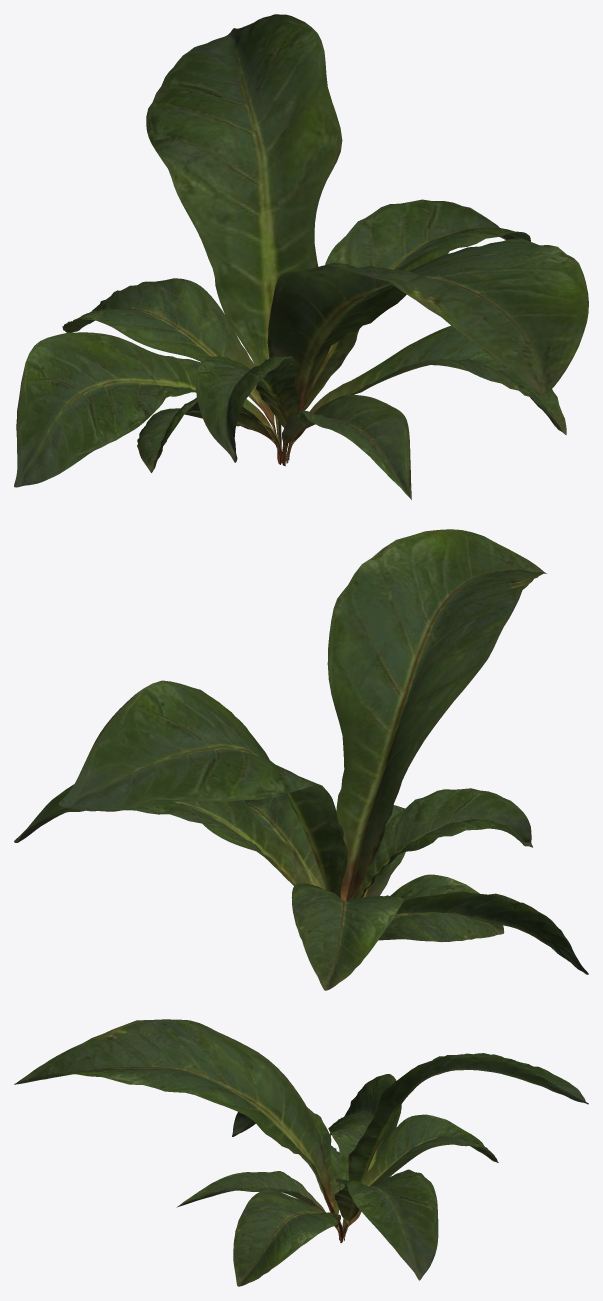
File: anthurium_botany_01_b.gltf
3 views of the same model, one above another, from view 1: azimuth 30°, elevation 25°; view 2: azimuth 150°, elevation 25°; view 3: azimuth 270°, elevation 25° (orthographic). The views are drawn at different scales.
Parts seen in each view (by area): view 1: anthurium_botany_01_a; view 2: anthurium_botany_01_a; view 3: anthurium_botany_01_a.
Part boxes in pixels (left/top/right/bottom): anthurium_botany_01_a: left=14, top=14, right=588, bottom=499; anthurium_botany_01_a: left=14, top=529, right=588, bottom=990; anthurium_botany_01_a: left=14, top=1019, right=588, bottom=1286.
Size of the model in its own units: 0.8962 by 0.4997 by 1.14.
1 material, 1 textured.
